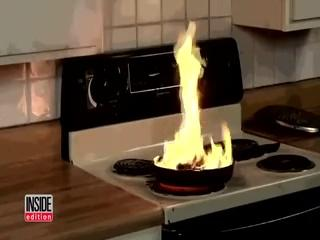Fire: (152, 8, 232, 174)
